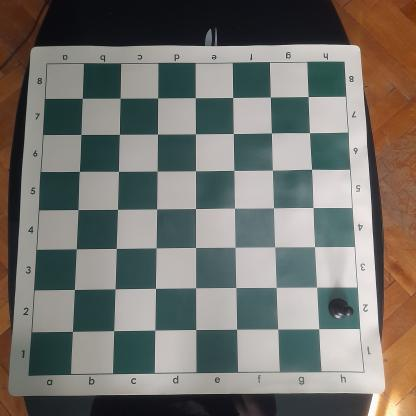black-pawn: (326, 297, 355, 322)
